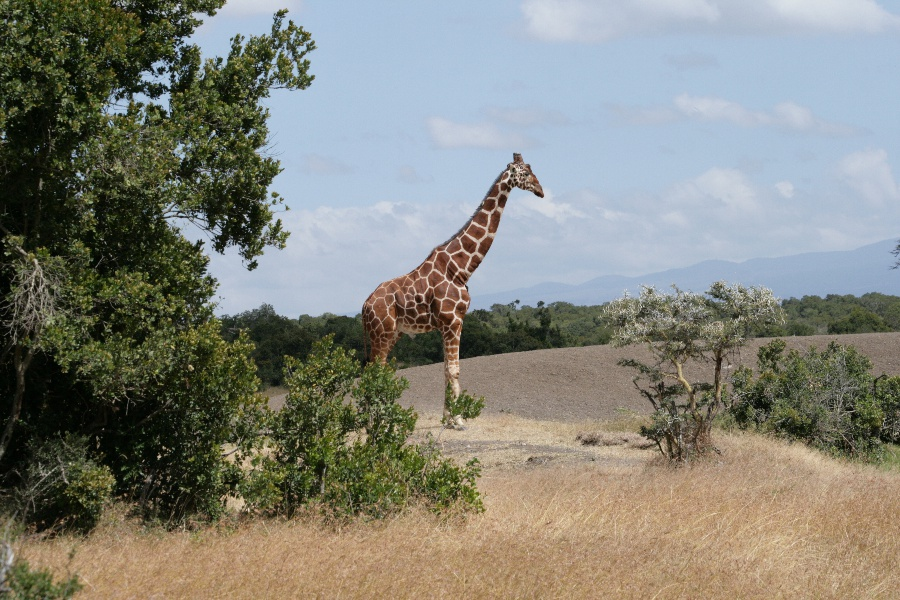giraffe: (353, 143, 548, 437)
